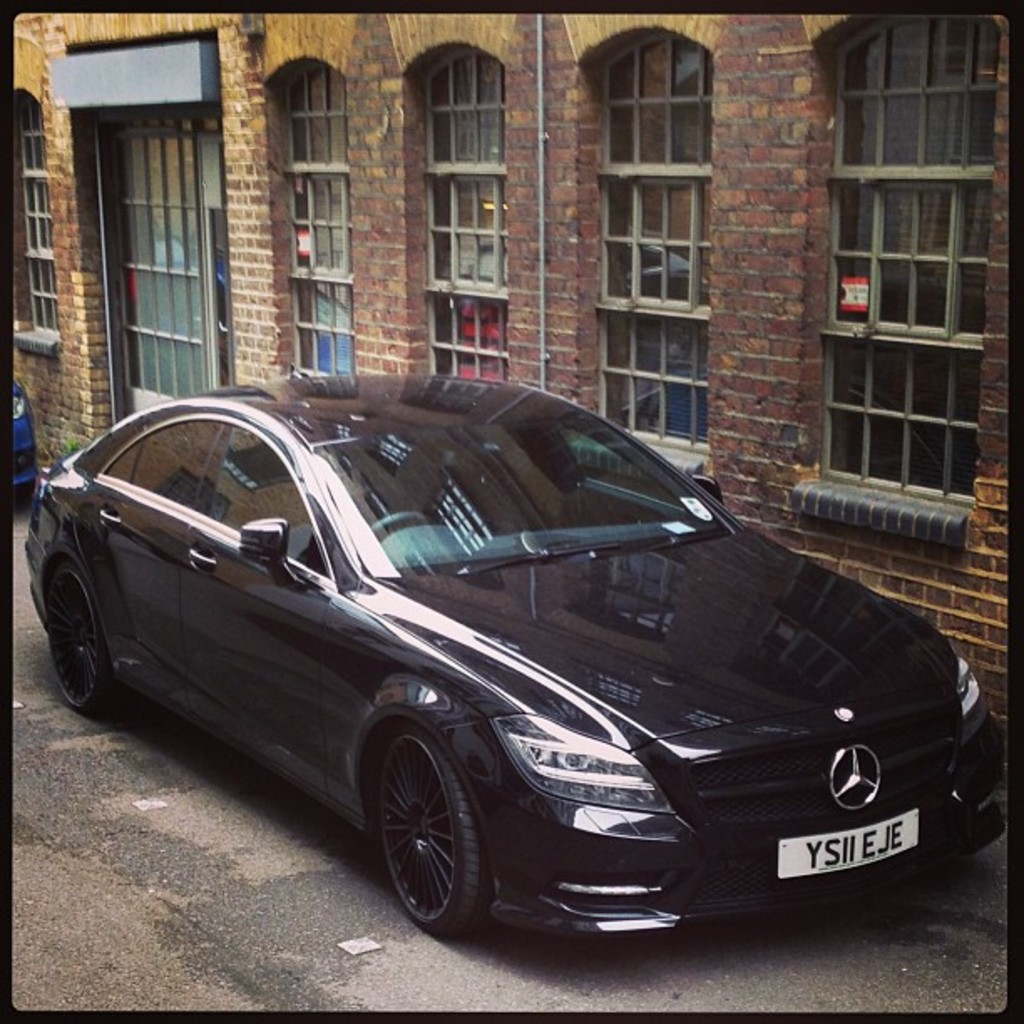car: (24, 339, 1018, 960)
